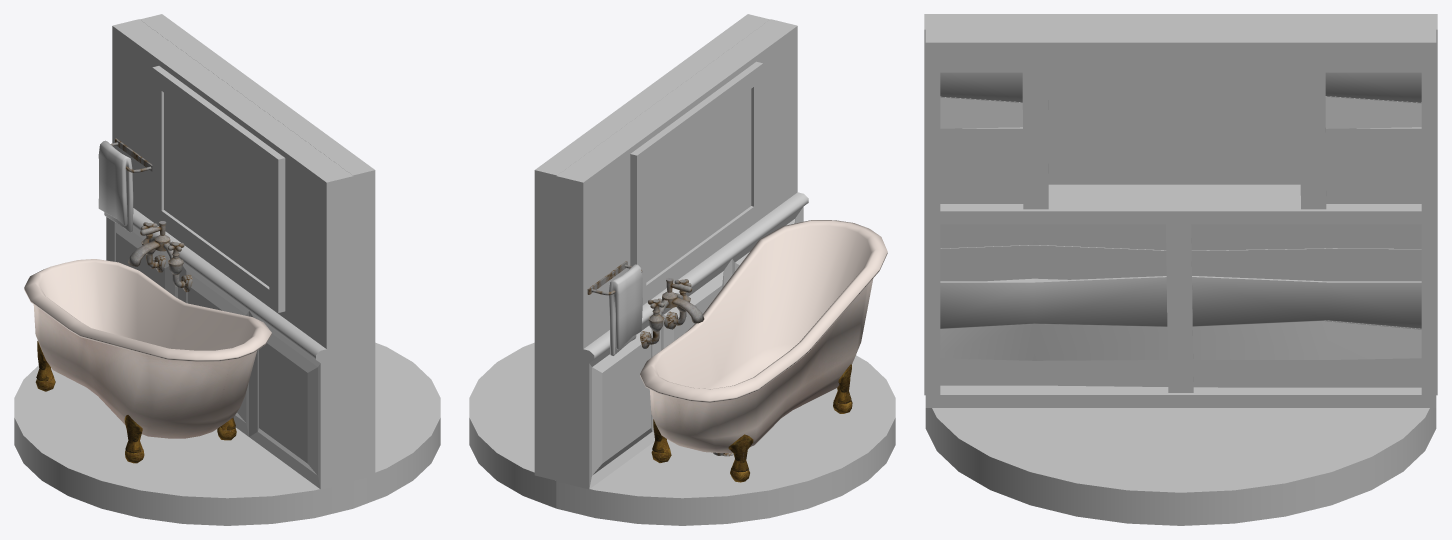
Rendered from revolving_bath.DAE.
3 renders of one model, left to right at view 1: azimuth 30°, elevation 25°; view 2: azimuth 150°, elevation 25°; view 3: azimuth 270°, elevation 25°, orthographic. The views are drawn at different scales.
Visible parts, largest first — view 1: Box001, Box013, Box011, Cylinder004, mirror001, Object030, Object001, Box026, Object039, Box006, Cylinder002; view 2: Box001, Box013, Cylinder004, Box011, mirror001, Object030, Object001, Box026, Object039, Cylinder002, Box006; view 3: Object031, Object030, Object039, Box013, Box026.
Boxes of the visible parts, left/top/right/bottom form: Box001: left=24, top=259, right=271, bottom=463; Box013: left=112, top=19, right=353, bottom=487; Box011: left=106, top=208, right=326, bottom=489; Cylinder004: left=14, top=365, right=353, bottom=525; mirror001: left=164, top=93, right=269, bottom=286; Object030: left=140, top=14, right=375, bottom=480; Object001: left=45, top=375, right=304, bottom=485; Box026: left=152, top=66, right=285, bottom=312; Object039: left=353, top=342, right=440, bottom=508; Box006: left=98, top=140, right=133, bottom=232; Cylinder002: left=110, top=138, right=192, bottom=292; Box001: left=640, top=220, right=887, bottom=482; Box013: left=556, top=19, right=797, bottom=487; Cylinder004: left=556, top=355, right=895, bottom=525; Box011: left=583, top=192, right=808, bottom=489; mirror001: left=646, top=89, right=751, bottom=282; Object030: left=534, top=14, right=769, bottom=480; Object001: left=605, top=377, right=864, bottom=485; Box026: left=630, top=61, right=763, bottom=304; Object039: left=469, top=342, right=556, bottom=508; Cylinder002: left=587, top=261, right=733, bottom=456; Box006: left=609, top=264, right=642, bottom=355; Object031: left=940, top=72, right=1421, bottom=387; Object030: left=925, top=29, right=1436, bottom=407; Object039: left=925, top=408, right=1436, bottom=525; Box013: left=924, top=14, right=1437, bottom=395; Box026: left=1048, top=184, right=1300, bottom=197.
Size of the model in its own units: 3.5 by 3 by 3.5.
